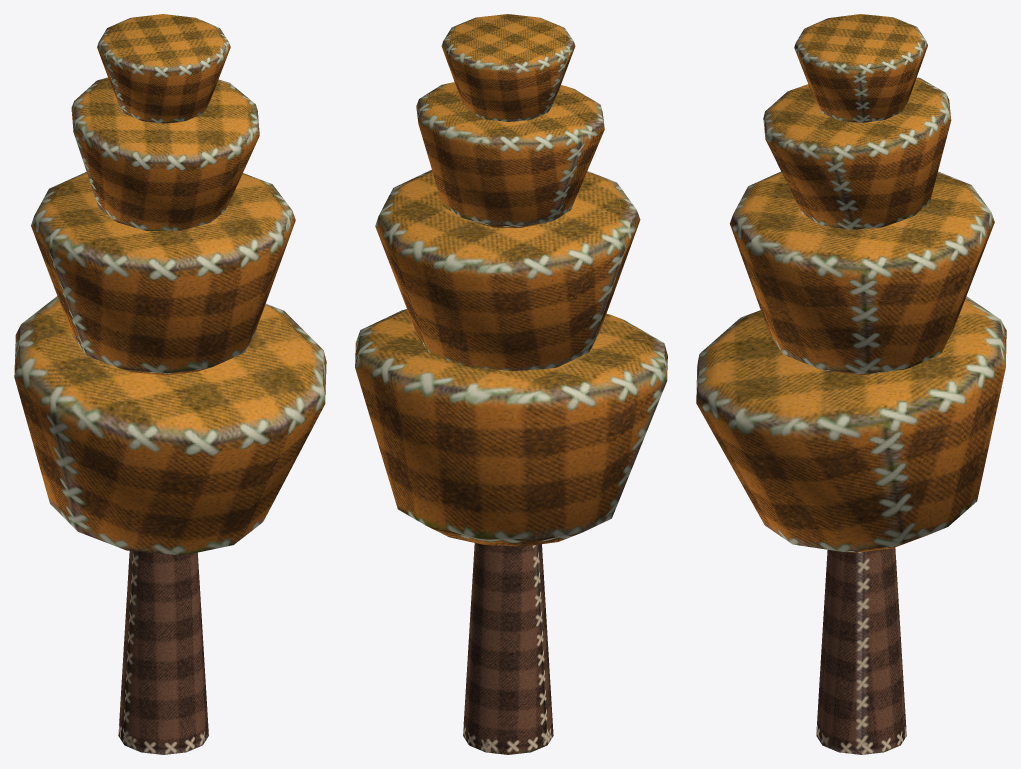
Rendered from lpb_cs_tree18.fbx.
3 renders of one model, left to right at view 1: azimuth 30°, elevation 25°; view 2: azimuth 150°, elevation 25°; view 3: azimuth 270°, elevation 25°, orthographic.
Visible parts, largest first — view 1: lpb_cs_tree18; view 2: lpb_cs_tree18; view 3: lpb_cs_tree18.
Part boxes in pixels (x1=…): lpb_cs_tree18: x1=14, y1=14, x2=326, y2=754; lpb_cs_tree18: x1=355, y1=14, x2=667, y2=754; lpb_cs_tree18: x1=696, y1=14, x2=1006, y2=754.
Bounding box in the file's own units: 85.69 × 211 × 84.89.
